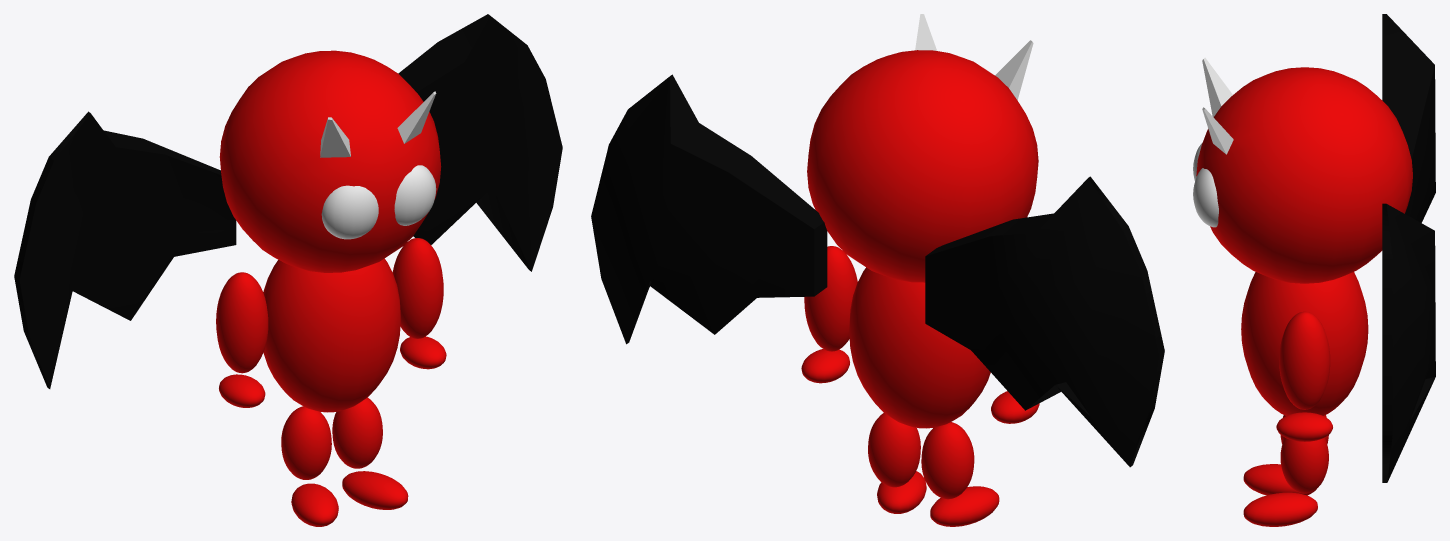
File: Thing.fbx
3 views of the same model, side by side, from view 1: azimuth 30°, elevation 25°; view 2: azimuth 150°, elevation 25°; view 3: azimuth 270°, elevation 25° (orthographic). The views are drawn at different scales.
Parts seen in each view (by area): view 1: pSphere1, pCube1, pasted__pCube1, pSphere2, pSphere3, pSphere4, pSphere5, pSphere6, pSphere7, pSphere10, pSphere8, pSphere9 (+2 smaller); view 2: pSphere1, pCube1, pasted__pCube1, pSphere2, pSphere4, pSphere5, pSphere6, pSphere9, pSphere10, pSphere12, pSphere11; view 3: pSphere1, pasted__pCube1, pSphere2, pCube1, pSphere4, pSphere6, pSphere10, pSphere12, pSphere9, pSphere8.
Part boxes in pixels (x1,y1,x2,y2): pSphere1: (219,50,441,272); pCube1: (14,111,236,388); pasted__pCube1: (398,14,562,271); pSphere2: (263,258,400,412); pSphere3: (216,272,268,373); pSphere4: (392,238,443,338); pSphere5: (281,406,331,479); pSphere6: (332,397,382,468); pSphere7: (321,185,378,239); pSphere10: (342,471,408,509); pSphere8: (394,165,436,225); pSphere9: (291,483,338,526); pSphere1: (807,14,1038,282); pCube1: (925,176,1164,467); pasted__pCube1: (591,74,827,344); pSphere2: (849,267,990,428); pSphere4: (804,246,857,351); pSphere5: (921,422,974,499); pSphere6: (868,413,920,487); pSphere9: (930,486,999,526); pSphere10: (877,471,926,513); pSphere12: (801,349,849,383); pSphere11: (991,391,1039,423); pSphere1: (1196,57,1412,283); pasted__pCube1: (1382,203,1435,482); pSphere2: (1241,272,1368,415); pCube1: (1382,14,1435,222); pSphere4: (1279,311,1330,409); pSphere6: (1280,437,1328,493); pSphere10: (1243,492,1317,526); pSphere12: (1276,412,1332,441); pSphere9: (1243,464,1316,495); pSphere8: (1193,168,1218,227).
Bounding box in the file's own units: 0.0884 × 0.0688 × 0.0352.
